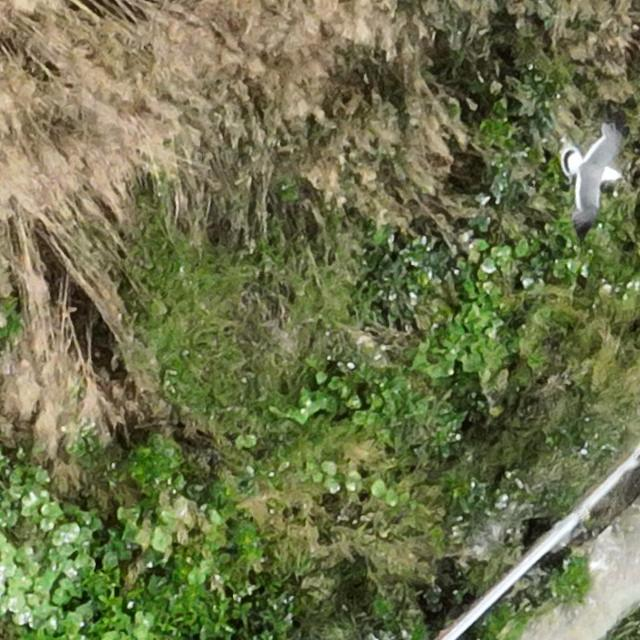F: (567, 126, 623, 221)
